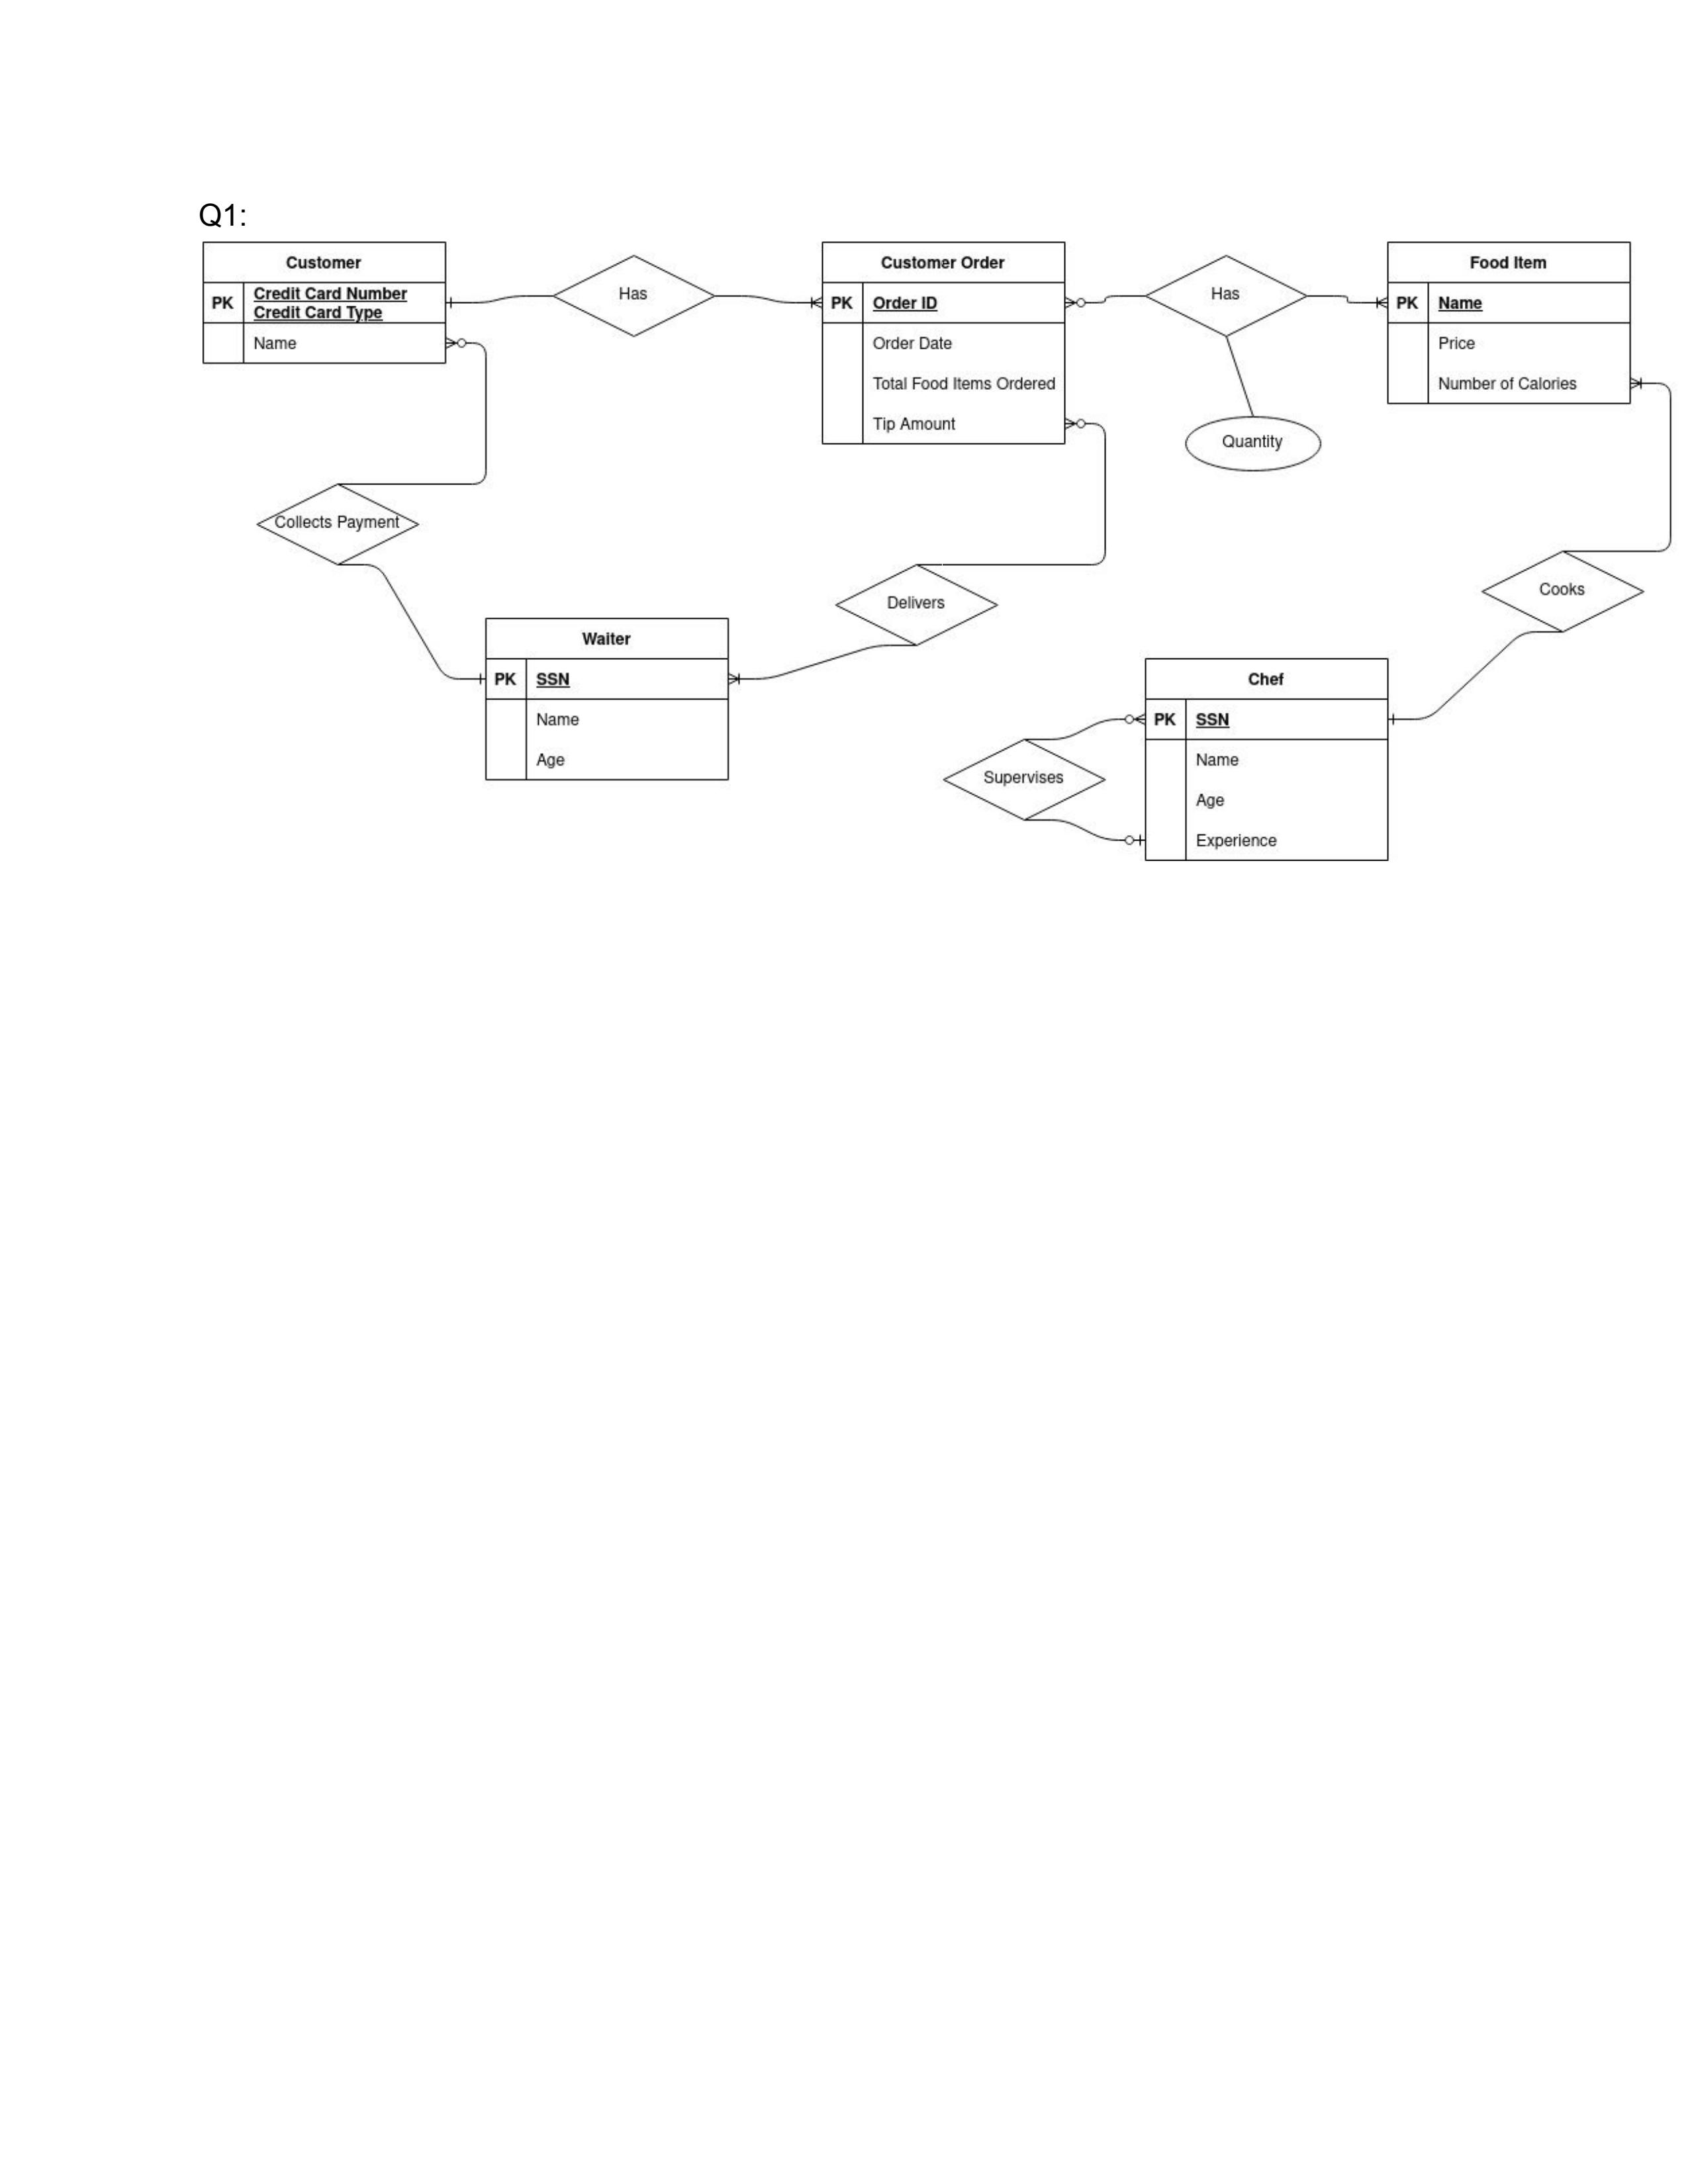Attribute: (1184, 415, 1321, 472)
Entity: (819, 241, 1067, 445), (1144, 658, 1390, 862), (484, 617, 731, 782), (1387, 241, 1631, 404), (200, 241, 447, 365)
Relationship: (255, 482, 420, 565), (1481, 551, 1645, 633), (942, 739, 1106, 821), (551, 253, 713, 337), (835, 564, 998, 645), (1145, 255, 1307, 335)
